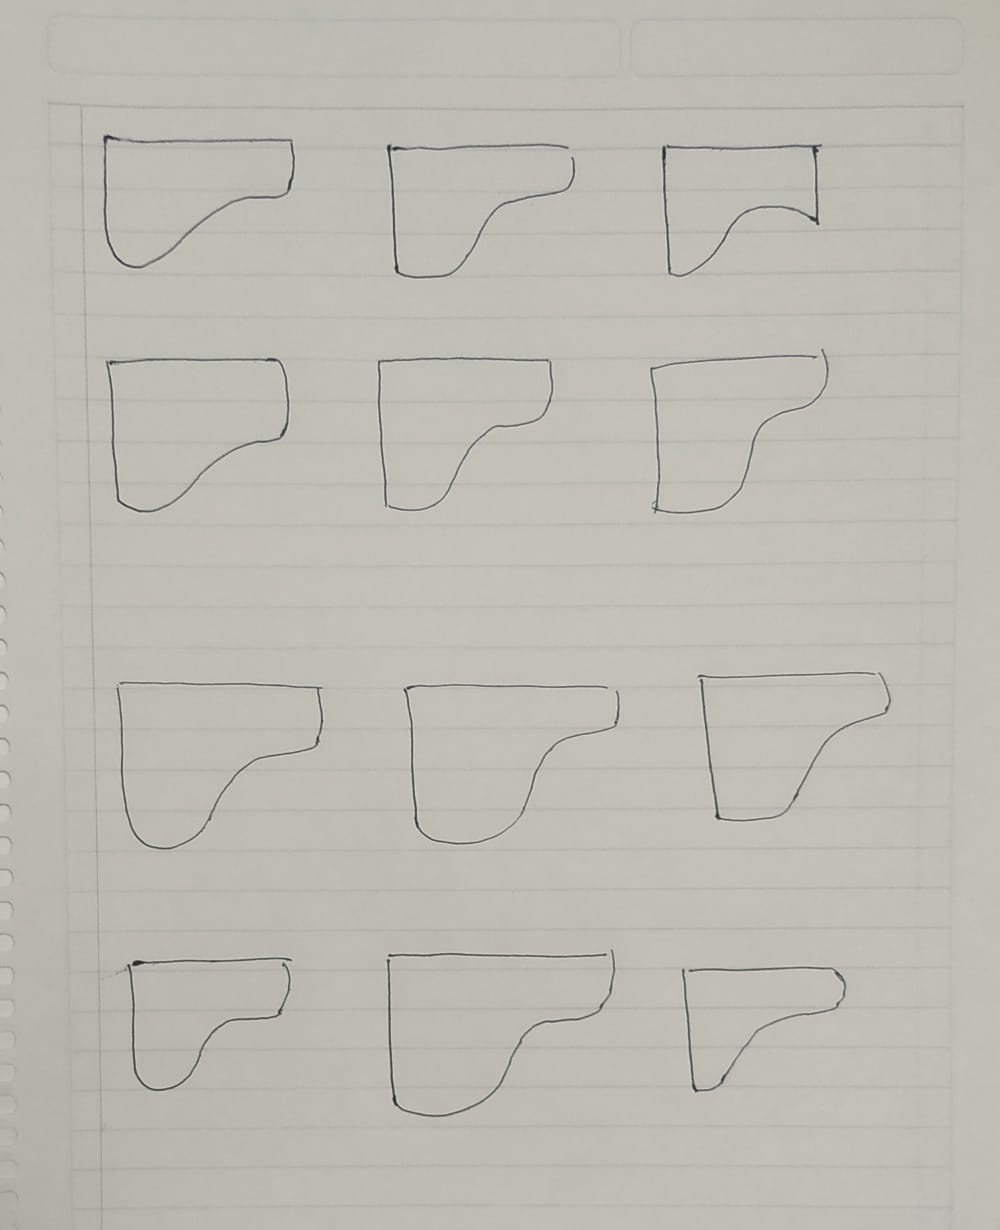print: (364, 925, 633, 1136), (101, 657, 344, 874), (388, 658, 638, 865), (679, 644, 910, 843), (629, 330, 846, 536), (358, 331, 573, 524), (93, 336, 302, 527), (85, 117, 310, 280), (662, 933, 862, 1113), (373, 126, 582, 294), (107, 938, 310, 1108), (650, 130, 839, 295)
